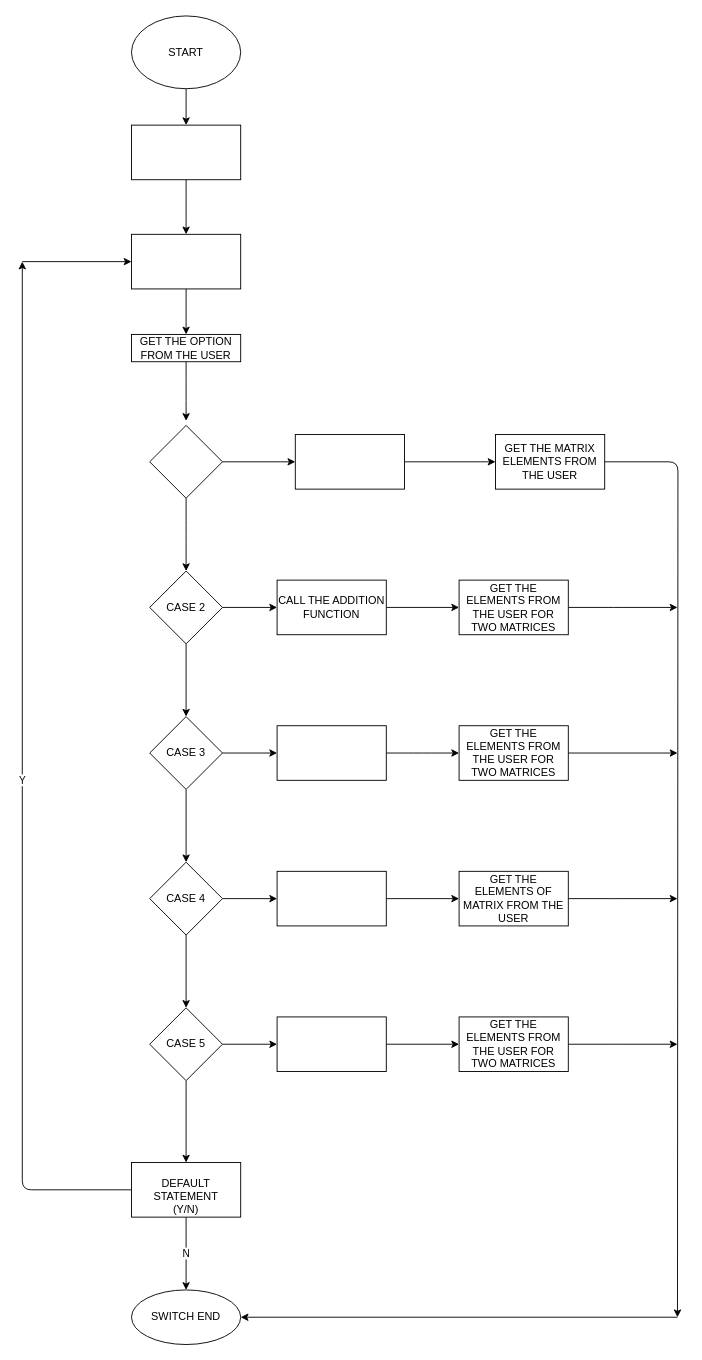
The diagram is 702 pixels wide and 1360 high, and some of its shapes have lost their labels. The box of each missing label's shape, as (x1, y1, x2, y2) in pixels:
CALL THE MULTIPLICATION FUNCTION: (276, 1016, 386, 1072)
CALL THE SCALAR MULTIPLICATION FUNCTION: (276, 870, 386, 926)
CALL THE SUBTRACTION FUNCTION: (276, 725, 386, 780)
CALL THE TRANSPOSE FUNCTION: (294, 434, 404, 489)
CASE:1: (149, 425, 222, 498)
DISPLAY THE OPERATION MENU: (131, 233, 241, 289)
INITIALIZE SYSTEM: (131, 124, 241, 180)
